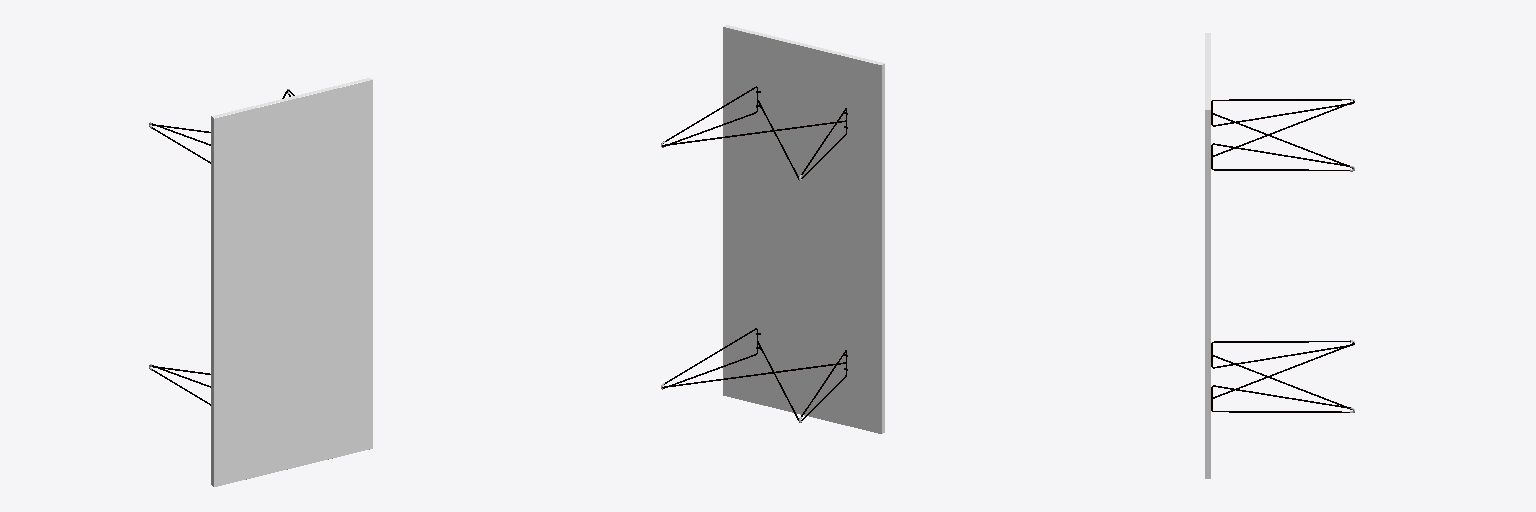
Rendered from table.obj.
3 views of the same model, side by side, from view 1: azimuth 30°, elevation 25°; view 2: azimuth 150°, elevation 25°; view 3: azimuth 270°, elevation 25° (orthographic).
Visible parts, largest first — view 1: Magis_XZ3_200_mat5; view 2: Magis_XZ3_200_mat5; view 3: Magis_XZ3_200_mat5.
Part boxes in pixels (bbox=[...]): Magis_XZ3_200_mat5: bbox=[149, 78, 372, 486]; Magis_XZ3_200_mat5: bbox=[661, 25, 884, 433]; Magis_XZ3_200_mat5: bbox=[1205, 33, 1354, 478].
Bounding box in the file's own units: 90 × 200 × 74.03.